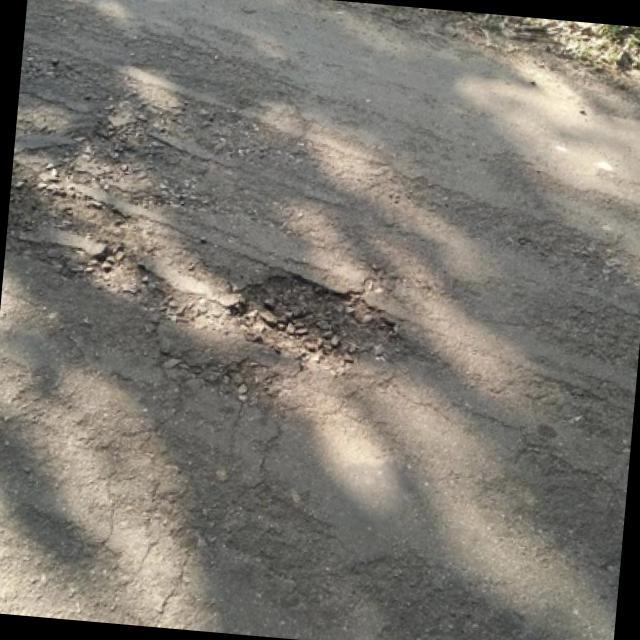Pothole: (244, 278, 396, 360)
